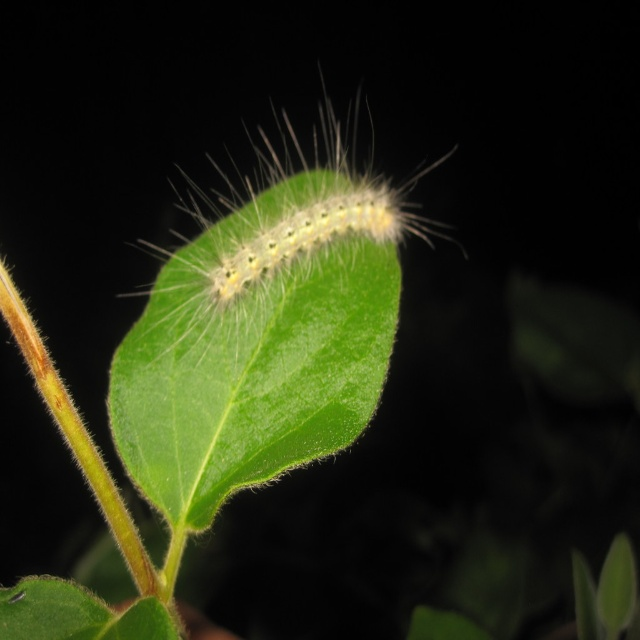Caterpillar: (115, 65, 461, 368)
